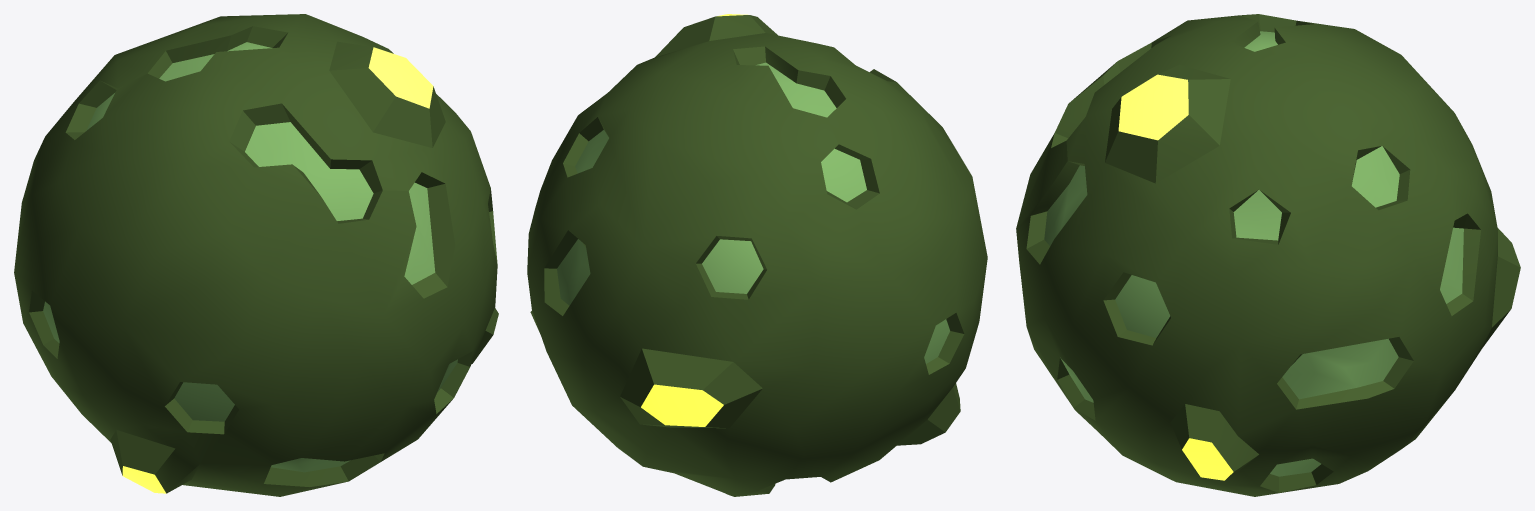
The model's file is planet-9.glb.
The picture shows the model from 3 angles, left to right: view 1: azimuth 30°, elevation 25°; view 2: azimuth 150°, elevation 25°; view 3: azimuth 270°, elevation 25°; orthographic projection. The views are drawn at different scales.
Parts seen in each view (by area): view 1: Toy_Planet_2_Toy_Planets_0; view 2: Toy_Planet_2_Toy_Planets_0; view 3: Toy_Planet_2_Toy_Planets_0.
Part boxes in pixels (left/top/right/bottom): Toy_Planet_2_Toy_Planets_0: left=14, top=14, right=498, bottom=496; Toy_Planet_2_Toy_Planets_0: left=527, top=14, right=987, bottom=496; Toy_Planet_2_Toy_Planets_0: left=1016, top=14, right=1520, bottom=496.
Bounding box in the file's own units: 2.01 × 2 × 2.1.
Materials: 1 (1 with a texture image).
